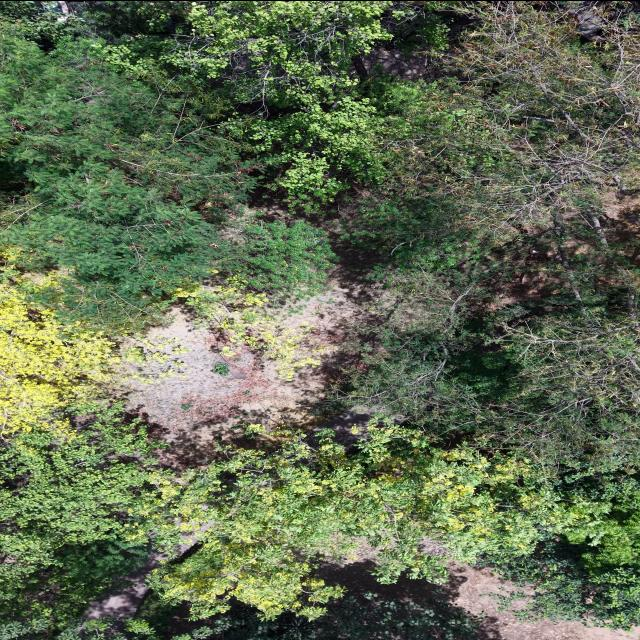DRY_AREA: (126, 247, 378, 469), (125, 246, 373, 469), (129, 248, 379, 468), (129, 247, 378, 467), (123, 248, 370, 469), (129, 247, 372, 467), (129, 247, 371, 466), (128, 255, 369, 468), (128, 265, 379, 468), (123, 263, 369, 469), (128, 265, 370, 468), (125, 274, 363, 468), (126, 279, 366, 468), (128, 287, 360, 468), (128, 310, 326, 468), (321, 554, 639, 639), (323, 560, 639, 639), (480, 186, 639, 311), (451, 564, 639, 639), (86, 544, 167, 618), (86, 551, 167, 618), (86, 552, 166, 618), (354, 41, 443, 80), (86, 568, 149, 618), (362, 48, 433, 79), (604, 188, 639, 228)
VEGETATION_TREE: (0, 1, 639, 639), (0, 20, 334, 331), (147, 423, 637, 617), (86, 2, 446, 208), (375, 2, 637, 241), (337, 311, 638, 469), (0, 406, 157, 635), (0, 284, 120, 437), (484, 509, 639, 627), (142, 591, 481, 639), (0, 540, 144, 637)
